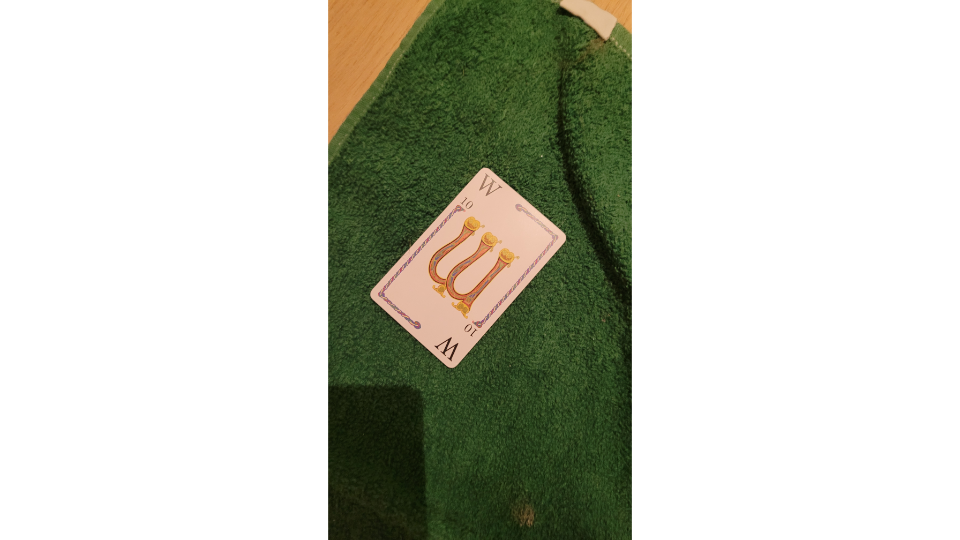W: (368, 166, 570, 371)
